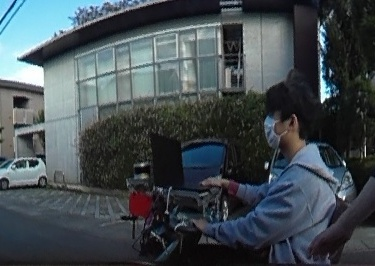person: (206, 77, 340, 266)
